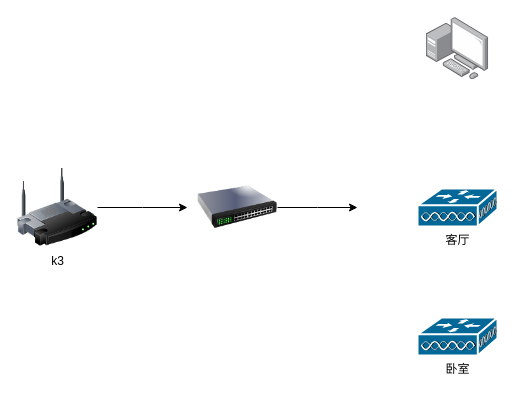
This 515x393 diagram has some shape labels left out. The centre of each missing label's shape, as x and y in pixels:
"5口交换机" goes at (237,207).
"书房" goes at (457,48).
